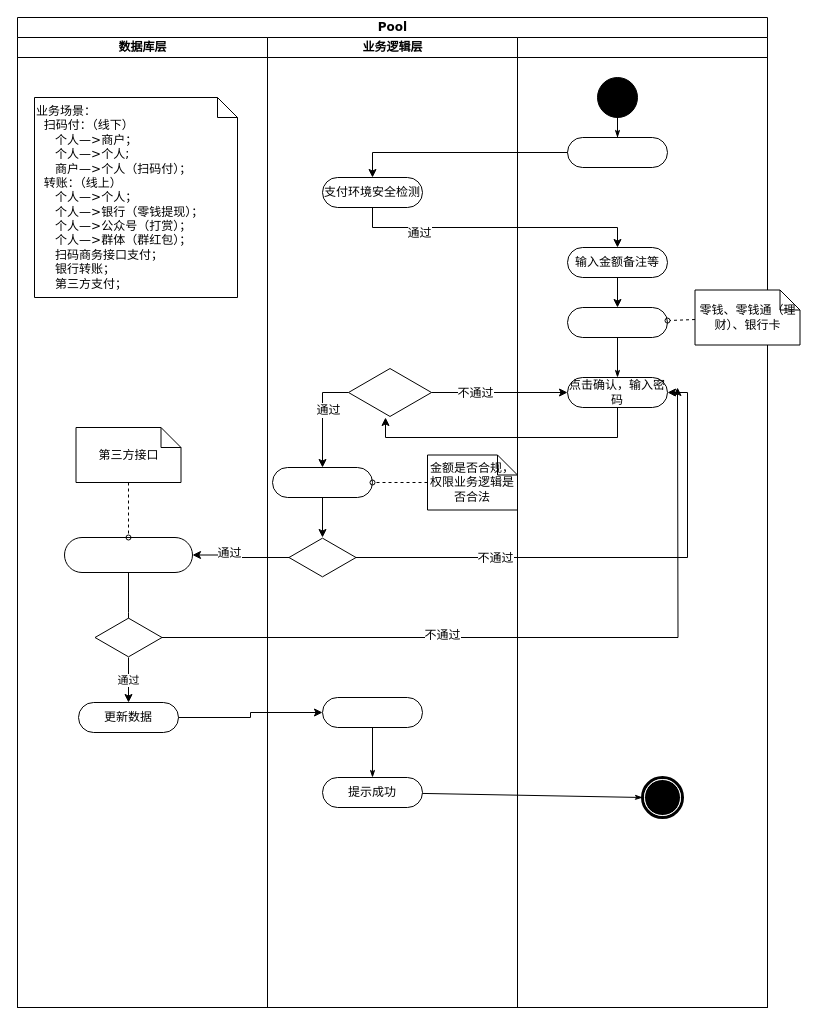
The diagram is 818 pixels wide and 1025 high, and some of its shapes have lost their labels. Here are the shapes that lost their labels. From the top down, the box of each, then its label:
(566, 136, 668, 168): 进入支付页面
(566, 306, 668, 338): 选择支付方式
(272, 466, 372, 498): 字段校验
(516, 36, 768, 1008): 用户层
(64, 536, 192, 572): 数据库or银行前置机对接进行key校验
(322, 696, 422, 728): 日志记录
